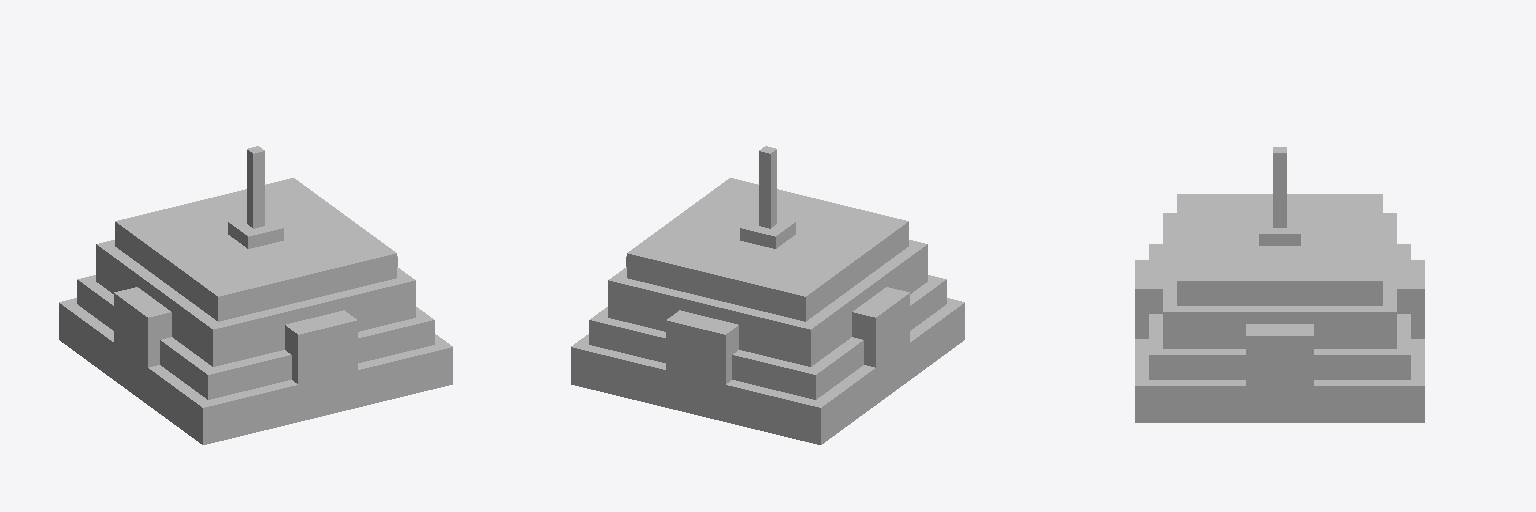
Rendered from spreader.obj.
3 views of the same model, side by side, from view 1: azimuth 30°, elevation 25°; view 2: azimuth 150°, elevation 25°; view 3: azimuth 270°, elevation 25° (orthographic).
Size of the model in its own units: 0.84 by 0.68 by 0.84.